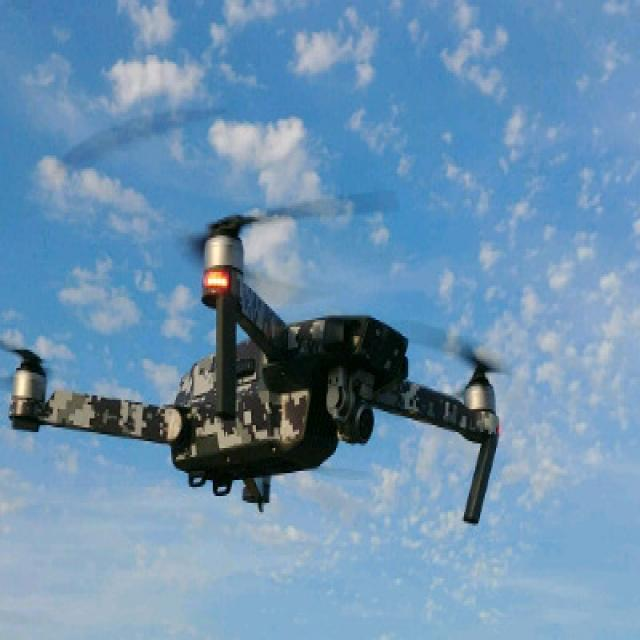drone: (0, 176, 528, 587)
